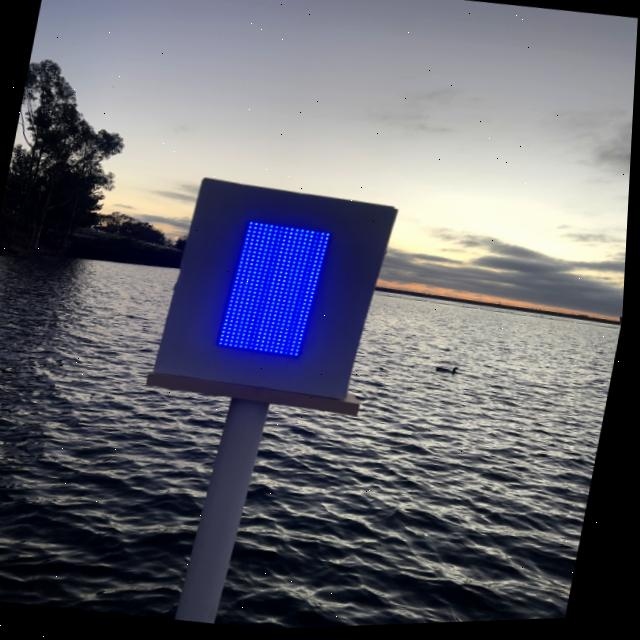led: (182, 196, 368, 409)
